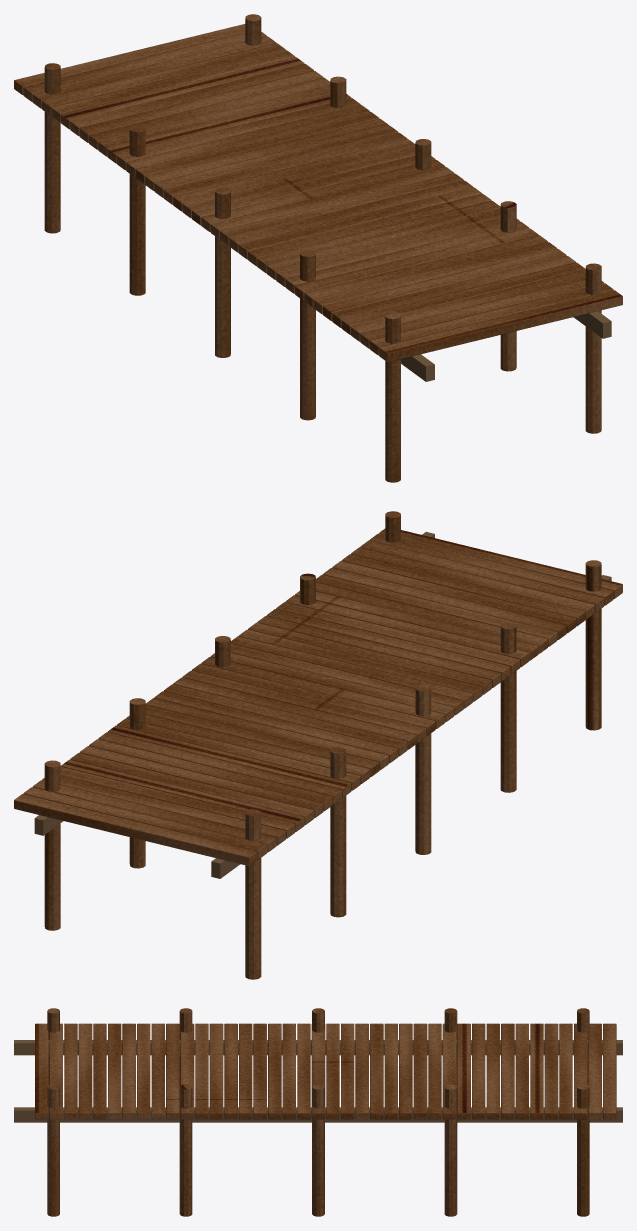
The model's file is port_pier.glb.
3 views of the same model, one above another, from view 1: azimuth 30°, elevation 25°; view 2: azimuth 150°, elevation 25°; view 3: azimuth 270°, elevation 25° (orthographic). The views are drawn at different scales.
Parts seen in each view (by area): view 1: timber_pile, bearer; view 2: timber_pile, bearer; view 3: timber_pile, bearer.
Part boxes in pixels (x1,y1,x2,y2): timber_pile: (14,14,622,482); bearer: (401,311,611,381); timber_pile: (14,511,622,979); bearer: (34,531,611,878); timber_pile: (35,1008,616,1216); bearer: (14,1040,622,1122).
Bounding box in the file's own units: 8 × 5.3 × 23.
Materials: 2 (1 with a texture image).
